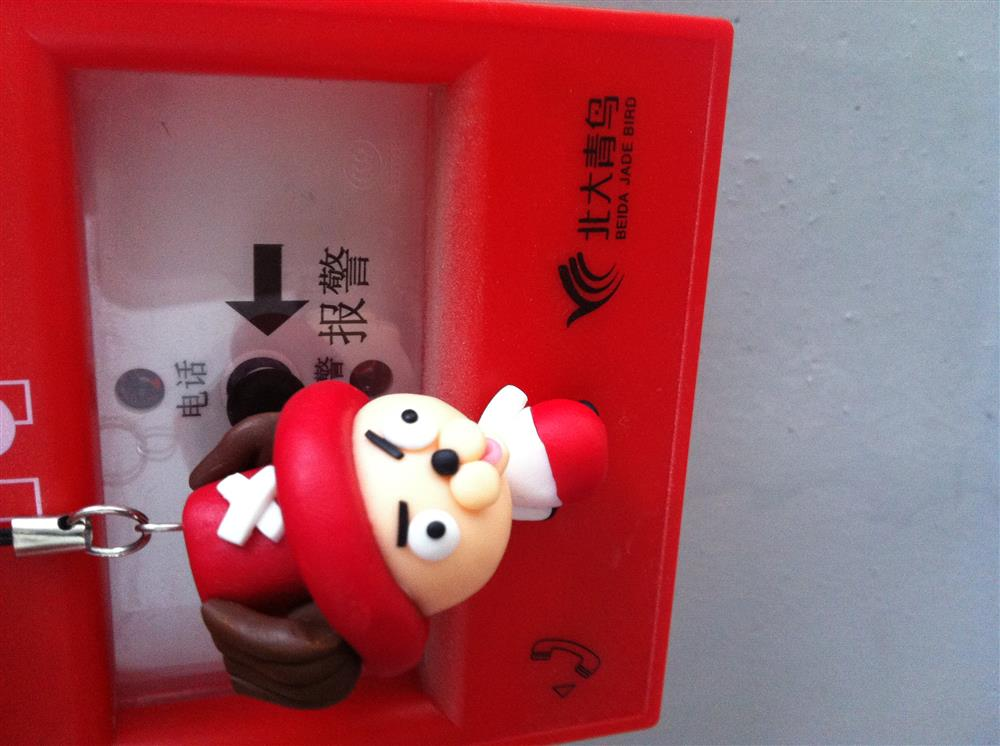Chopper: (180, 381, 608, 708)
